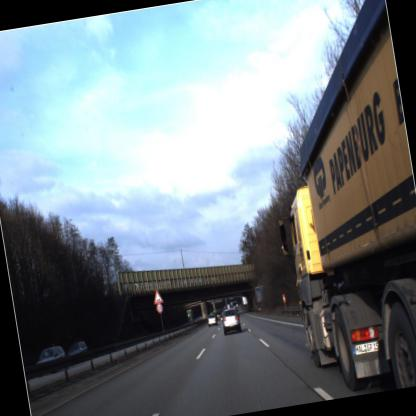danger: (152, 287, 164, 304)
prohibitory: (153, 302, 166, 316)
